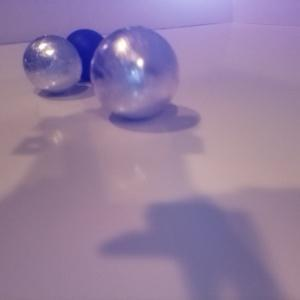alive_ball: (89, 25, 180, 120), (23, 35, 82, 93)
dead_ball: (63, 29, 108, 78)
